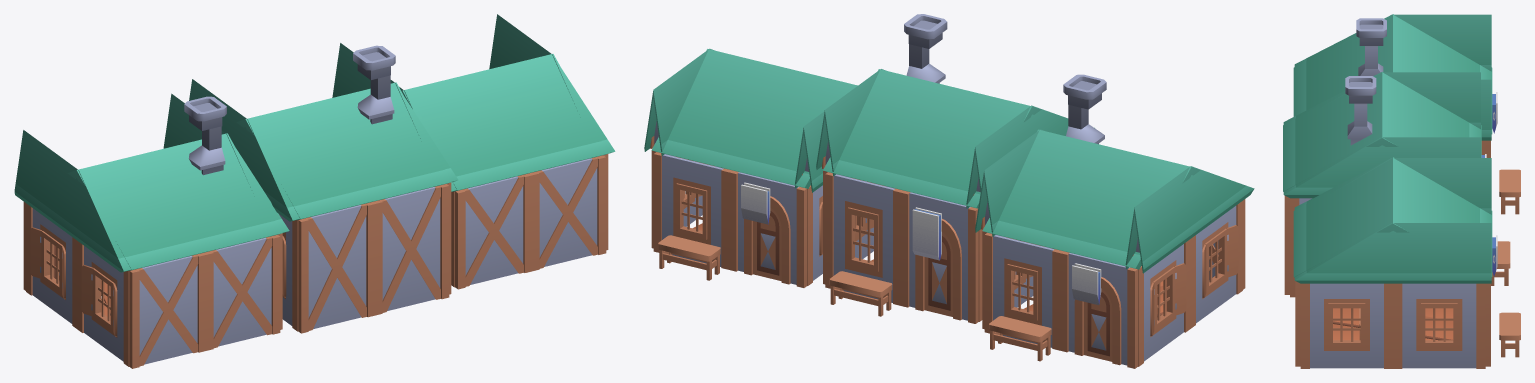
The model's file is london_bld_guild_row.glb.
3 views of the same model, side by side, from view 1: azimuth 30°, elevation 25°; view 2: azimuth 150°, elevation 25°; view 3: azimuth 270°, elevation 25° (orthographic). The views are drawn at different scales.
Parts seen in each view (by area): view 1: roof-gable (×6), wall-detail-cross (×6), roof-gable-end (×5), wall-window-shutters (×3), chimney-base (×2), chimney-top (×2); view 2: roof-gable (×6), wall-window-shutters (×9), roof-gable-end (×6), wall-door (×3), door (×3), stall-bench (×3), chimney-top (×2), flag-banner-short (×2), chimney-base (×2), flag-banner-long; view 3: roof-gable (×6), roof-gable-end (×6), wall-window-shutters (×4), stall-bench (×3), chimney-top (×2), platform-planks, chimney-base (×2), wall-detail-cross (×2), flag-banner-short (×2).
Part boxes in pixels (x1,y1,x2,y2): roof-gable (×6): (67, 54, 608, 270); wall-detail-cross (×6): (129, 155, 606, 368); roof-gable-end (×5): (14, 14, 615, 272); wall-window-shutters (×3): (26, 203, 298, 366); chimney-base (×2): (188, 75, 394, 175); chimney-top (×2): (184, 45, 395, 130); roof-gable (×6): (651, 49, 1200, 269); wall-window-shutters (×9): (651, 150, 1242, 366); roof-gable-end (×6): (644, 48, 1254, 273); wall-door (×3): (729, 170, 1137, 368); door (×3): (753, 208, 1112, 361); stall-bench (×3): (658, 235, 1051, 361); chimney-top (×2): (904, 14, 1106, 109); flag-banner-short (×2): (741, 182, 1101, 305); chimney-base (×2): (906, 44, 1104, 144); flag-banner-long: (912, 207, 941, 260); roof-gable (×6): (1283, 14, 1492, 277); roof-gable-end (×6): (1283, 14, 1491, 283); wall-window-shutters (×4): (1290, 198, 1490, 368); stall-bench (×3): (1491, 169, 1520, 357); chimney-top (×2): (1345, 18, 1386, 103); platform-planks: (1333, 308, 1453, 340); chimney-base (×2): (1347, 46, 1383, 145); wall-detail-cross (×2): (1284, 196, 1300, 366); flag-banner-short (×2): (1492, 92, 1497, 276).
Size of the model in its own units: 16.6 by 7.1 by 7.72.
13 materials, 13 textured.
